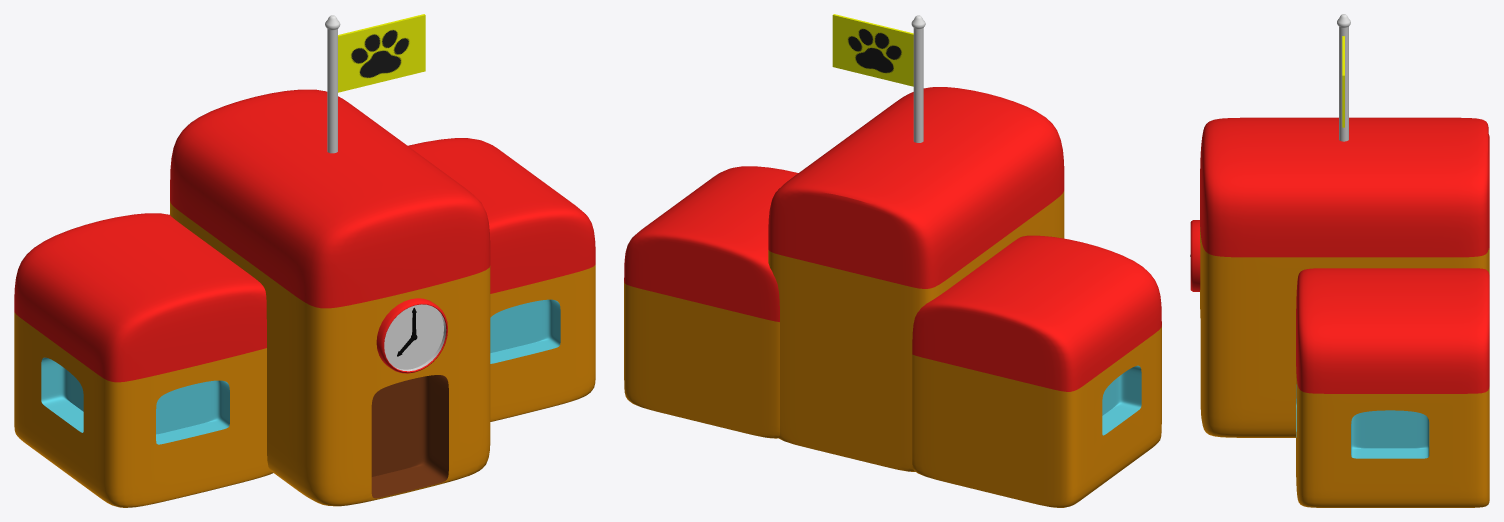
Rendered from School.fbx.
3 views of the same model, side by side, from view 1: azimuth 30°, elevation 25°; view 2: azimuth 150°, elevation 25°; view 3: azimuth 270°, elevation 25° (orthographic). The views are drawn at different scales.
Parts seen in each view (by area): view 1: SubBase, Base, Flag, Cylinder, BaseFlag; view 2: SubBase, Base, Flag, BaseFlag; view 3: Base, SubBase, BaseFlag, Cylinder.
Boxes of the visible parts, left/top/right/bottom form: SubBase: left=14, top=138, right=595, bottom=507; Base: left=170, top=89, right=490, bottom=506; Flag: left=338, top=14, right=425, bottom=92; Cylinder: left=376, top=298, right=447, bottom=373; BaseFlag: left=325, top=15, right=340, bottom=153; SubBase: left=624, top=166, right=1161, bottom=507; Base: left=768, top=87, right=1064, bottom=471; Flag: left=832, top=14, right=913, bottom=86; BaseFlag: left=911, top=15, right=925, bottom=142; Base: left=1200, top=117, right=1488, bottom=437; SubBase: left=1296, top=134, right=1489, bottom=507; BaseFlag: left=1337, top=14, right=1350, bottom=141; Cylinder: left=1190, top=220, right=1200, bottom=291.
Bounding box in the file's own units: 538 × 440 × 309.
Materials: 8 (1 with a texture image).
